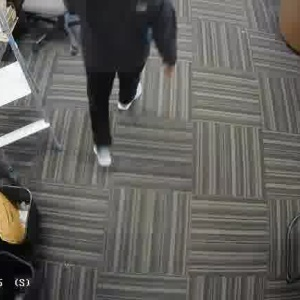person: (72, 0, 190, 141)
